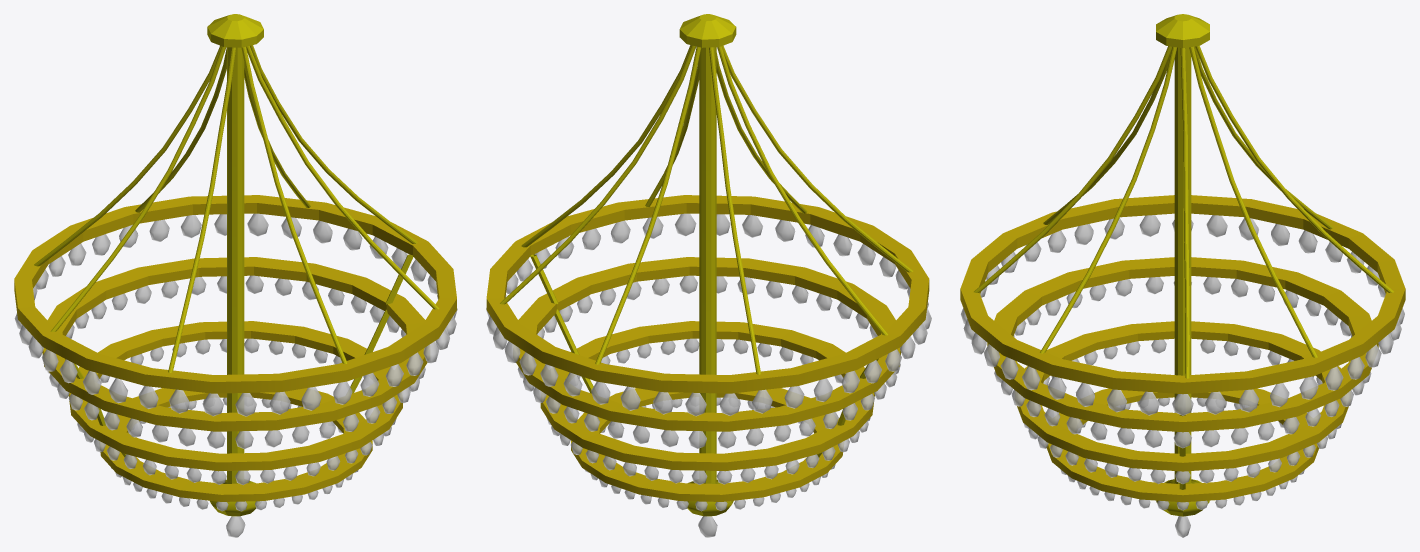
Rendered from Chandelier.fbx.
3 views of the same model, side by side, from view 1: azimuth 30°, elevation 25°; view 2: azimuth 150°, elevation 25°; view 3: azimuth 270°, elevation 25° (orthographic).
Visible parts, largest first — view 1: polySurface37; view 2: polySurface37; view 3: polySurface37.
Part boxes in pixels (bbox=[...]): polySurface37: bbox=[14, 14, 457, 537]; polySurface37: bbox=[486, 14, 931, 537]; polySurface37: bbox=[960, 14, 1405, 537].
Bounding box in the file's own units: 39.3 × 50.68 × 39.3.
